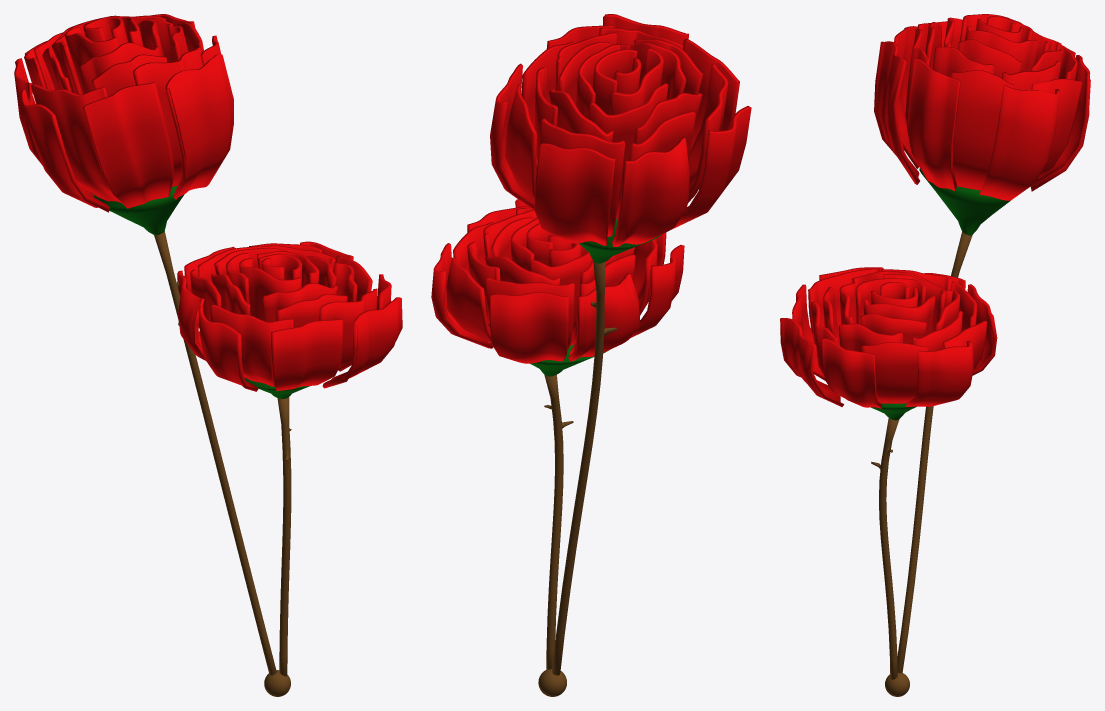
Rendered from cicek_3.fbx.
The picture shows the model from 3 angles, left to right: view 1: azimuth 30°, elevation 25°; view 2: azimuth 150°, elevation 25°; view 3: azimuth 270°, elevation 25°; orthographic projection. The views are drawn at different scales.
Parts seen in each view (by area): view 1: BézierCurve.002, BézierCurve, BézierCurve.003, BézierCurve.001, Sphere.001; view 2: BézierCurve.002, BézierCurve, BézierCurve.003, BézierCurve.001, Sphere.001, Sphere.002, Sphere; view 3: BézierCurve.002, BézierCurve, BézierCurve.003, BézierCurve.001, Sphere.001.
Boxes of the visible parts, x1,y1,x2,y2 form: BézierCurve.002: (14, 14, 233, 212); BézierCurve: (177, 241, 402, 391); BézierCurve.003: (154, 231, 276, 675); BézierCurve.001: (277, 397, 291, 676); Sphere.001: (91, 186, 184, 235); BézierCurve.002: (490, 14, 751, 246); BézierCurve: (431, 199, 684, 363); BézierCurve.003: (552, 261, 616, 675); BézierCurve.001: (544, 374, 573, 669); Sphere.001: (578, 218, 660, 263); Sphere.002: (538, 669, 566, 696); Sphere: (530, 344, 609, 376); BézierCurve.002: (874, 14, 1090, 200); BézierCurve: (780, 267, 997, 408); BézierCurve.003: (897, 231, 972, 672); BézierCurve.001: (871, 418, 899, 679); Sphere.001: (919, 168, 1010, 235).
Size of the model in its own units: 174 by 363 by 164.
